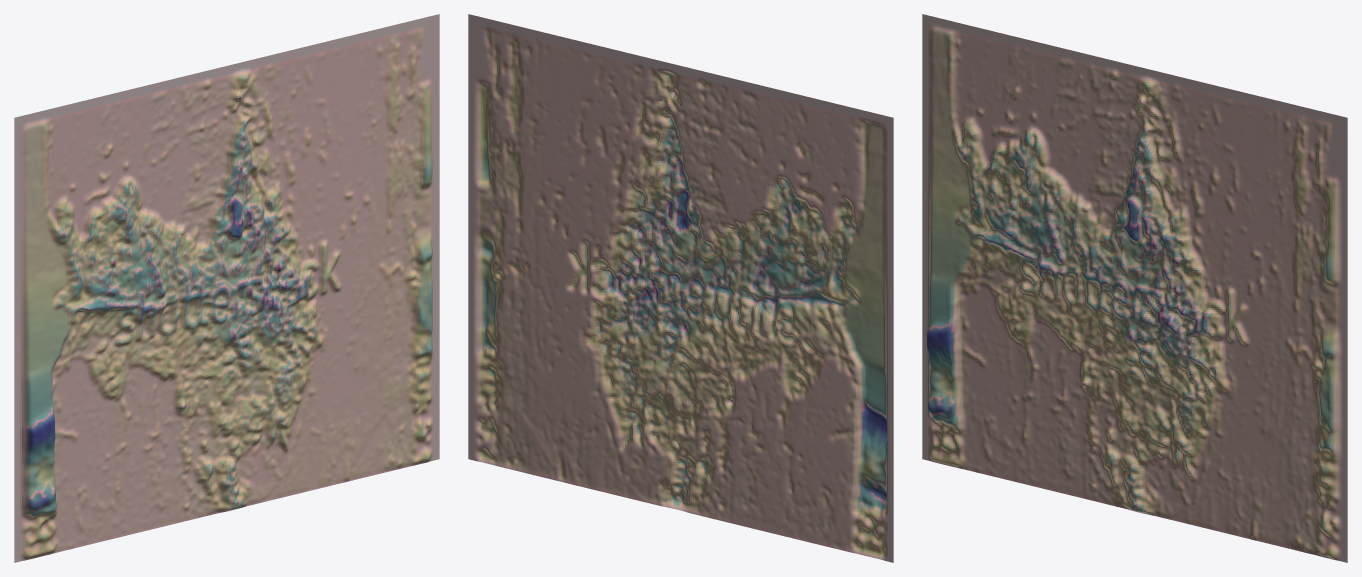
3 views of the same model, side by side, from view 1: azimuth 30°, elevation 25°; view 2: azimuth 150°, elevation 25°; view 3: azimuth 330°, elevation 25° (orthographic).
Visible parts, largest first — view 1: world; view 2: world; view 3: world.
Boxes of the visible parts, x1,y1,x2,y2 form: world: (14,14,439,562); world: (468,14,893,562); world: (922,14,1347,562).
Size of the model in its own units: 299 by 299 by 9.25.
